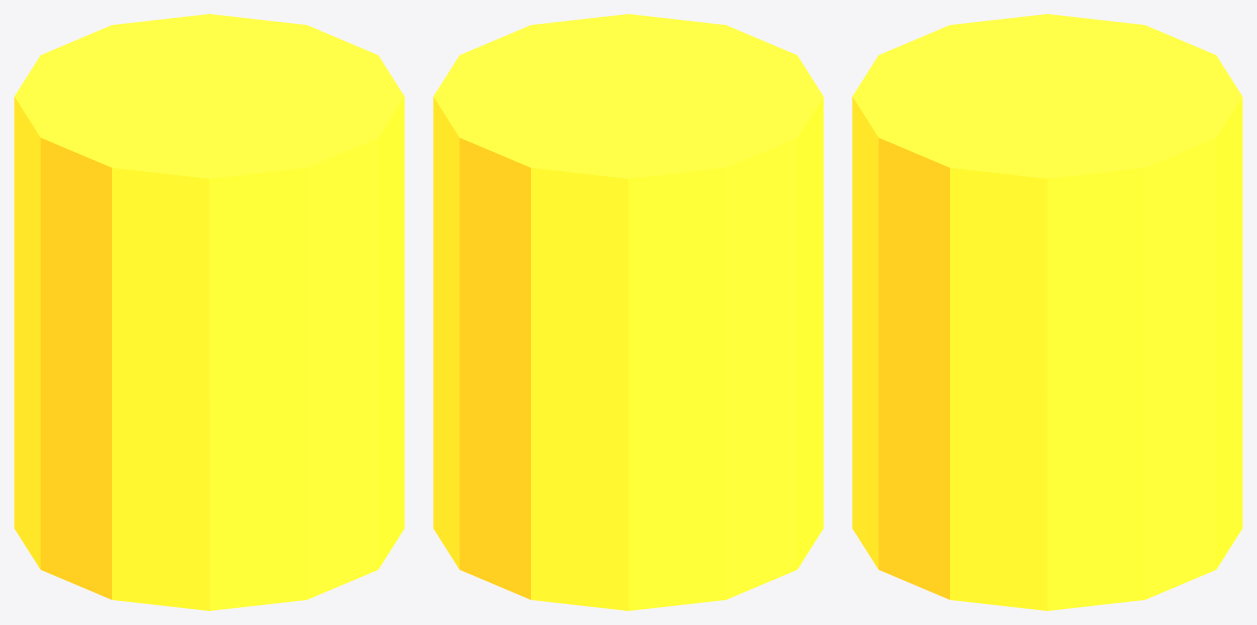
Rendered from SkyLantern.fbx.
3 views of the same model, side by side, from view 1: azimuth 30°, elevation 25°; view 2: azimuth 150°, elevation 25°; view 3: azimuth 270°, elevation 25° (orthographic).
Parts seen in each view (by area): view 1: Cylinder; view 2: Cylinder; view 3: Cylinder.
Boxes of the visible parts, x1=… form: Cylinder: x1=14, y1=14, x2=404, y2=610; Cylinder: x1=433, y1=14, x2=823, y2=610; Cylinder: x1=852, y1=14, x2=1242, y2=610.
Bounding box in the file's own units: 36 × 49.69 × 36.
